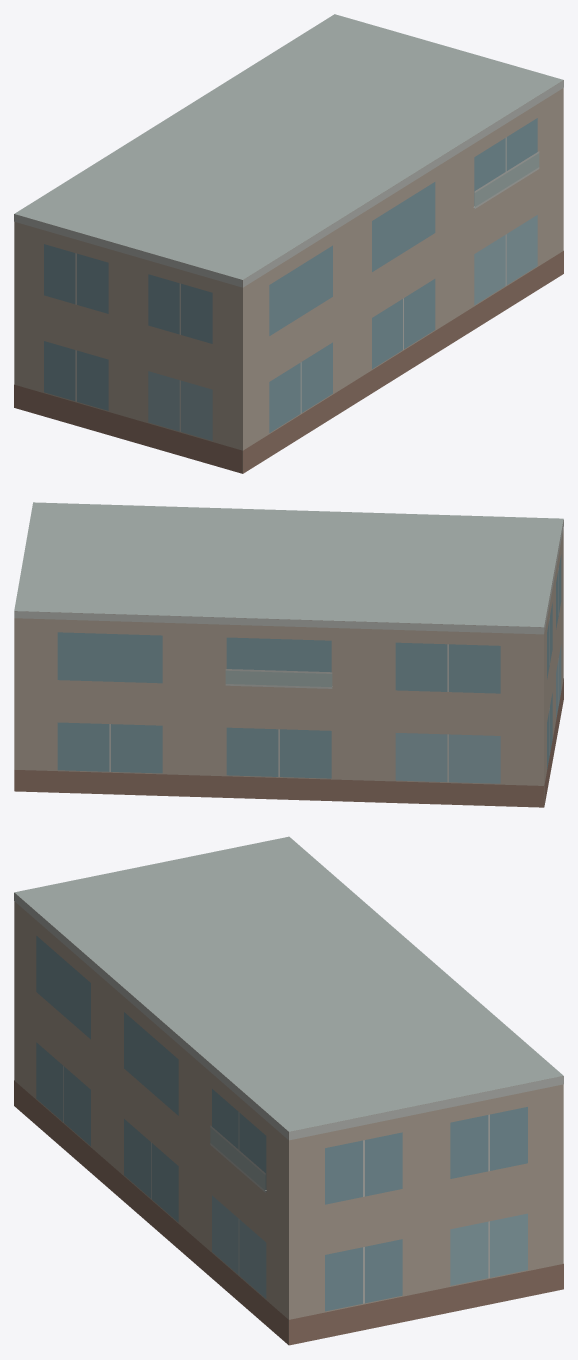
File: survey-upis-32704795.glb
The picture shows the model from 3 angles, top to bottom: view 1: azimuth 30°, elevation 25°; view 2: azimuth 150°, elevation 25°; view 3: azimuth 270°, elevation 25°; orthographic projection. The views are drawn at different scales.
Parts seen in each view (by area): view 1: survey-upis-32704795.tmp; view 2: survey-upis-32704795.tmp; view 3: survey-upis-32704795.tmp.
Boxes of the visible parts, x1,y1,x2,y2 form: survey-upis-32704795.tmp: (14, 14, 563, 473); survey-upis-32704795.tmp: (14, 502, 563, 807); survey-upis-32704795.tmp: (14, 836, 563, 1345).
Bounding box in the file's own units: 18.11 × 6.1 × 14.24.
